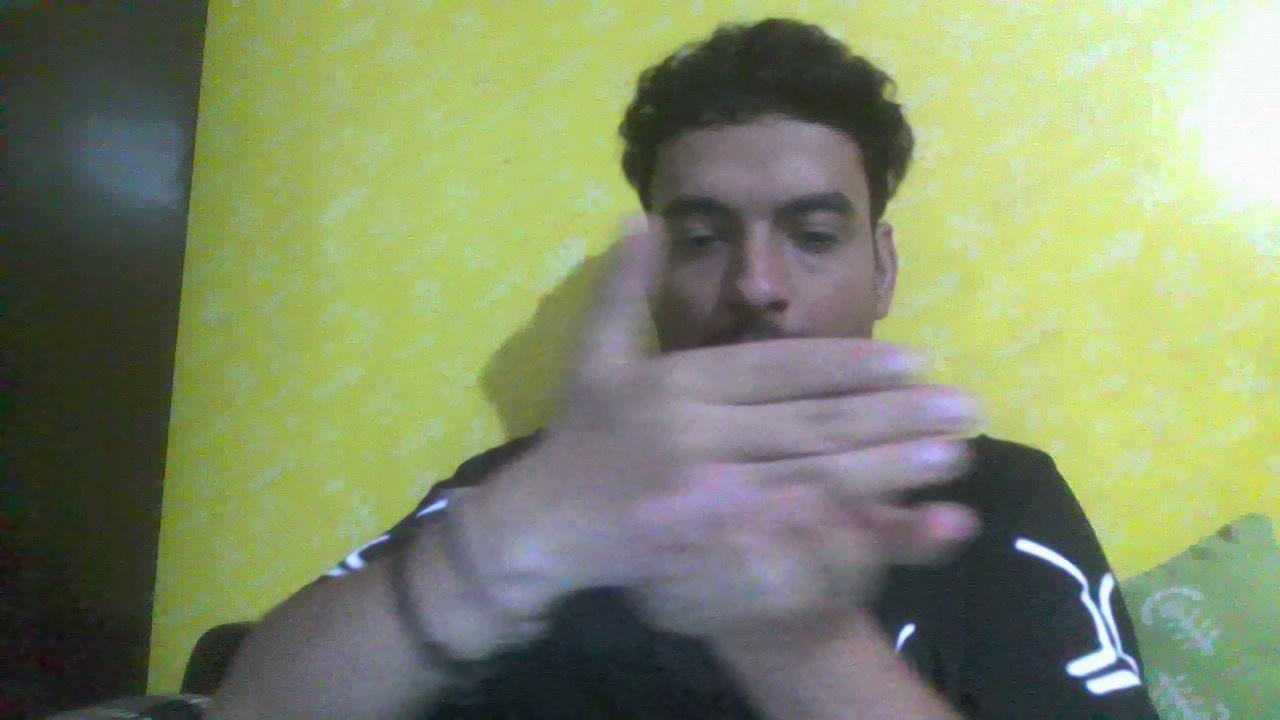stop: (486, 222, 1010, 646)
